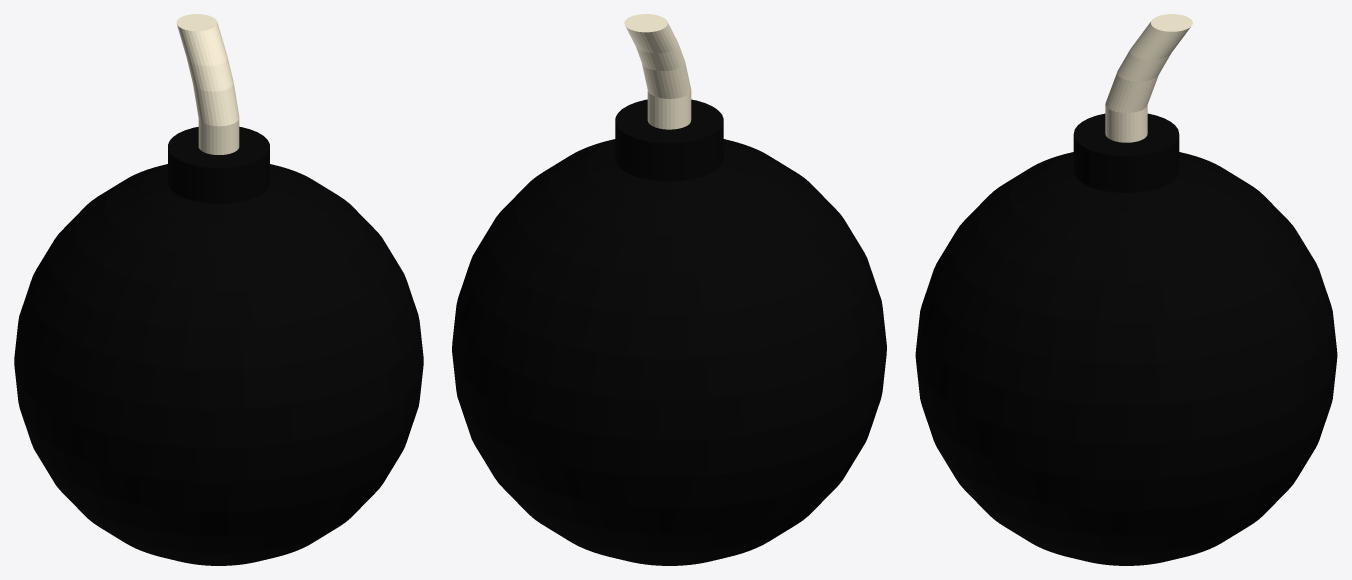
Rendered from Bombe.fbx.
The picture shows the model from 3 angles, left to right: view 1: azimuth 30°, elevation 25°; view 2: azimuth 150°, elevation 25°; view 3: azimuth 270°, elevation 25°; orthographic projection. The views are drawn at different scales.
Parts seen in each view (by area): view 1: Sphere, Cylinder, Cylinder.001; view 2: Sphere, Cylinder, Cylinder.001; view 3: Sphere, Cylinder, Cylinder.001.
Boxes of the visible parts, box(x1,y1,x2,y2) form: Sphere: box(14, 164, 423, 565); Cylinder: box(168, 126, 269, 203); Cylinder.001: box(176, 14, 239, 154); Sphere: box(452, 139, 886, 565); Cylinder: box(615, 99, 723, 181); Cylinder.001: box(624, 14, 691, 129); Sphere: box(915, 152, 1337, 565); Cylinder: box(1073, 113, 1179, 192); Cylinder.001: box(1105, 14, 1192, 142).
Size of the model in its own units: 200 by 274 by 200.
